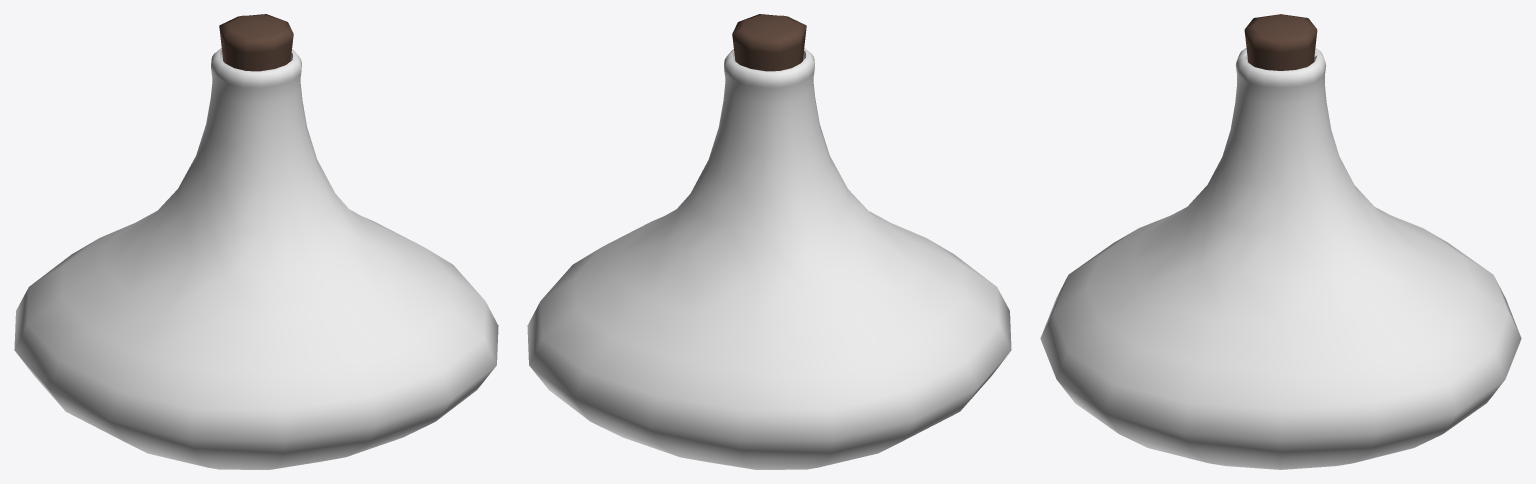
The model's file is Potion3.fbx.
3 views of the same model, side by side, from view 1: azimuth 30°, elevation 25°; view 2: azimuth 150°, elevation 25°; view 3: azimuth 270°, elevation 25° (orthographic).
Parts seen in each view (by area): view 1: Potion8_Filled; view 2: Potion8_Filled; view 3: Potion8_Filled.
Boxes of the visible parts, x1,y1,x2,y2 form: Potion8_Filled: (14,14,498,469); Potion8_Filled: (527,14,1011,469); Potion8_Filled: (1040,14,1521,469).
Bounding box in the file's own units: 70.35 × 68.21 × 70.35.
